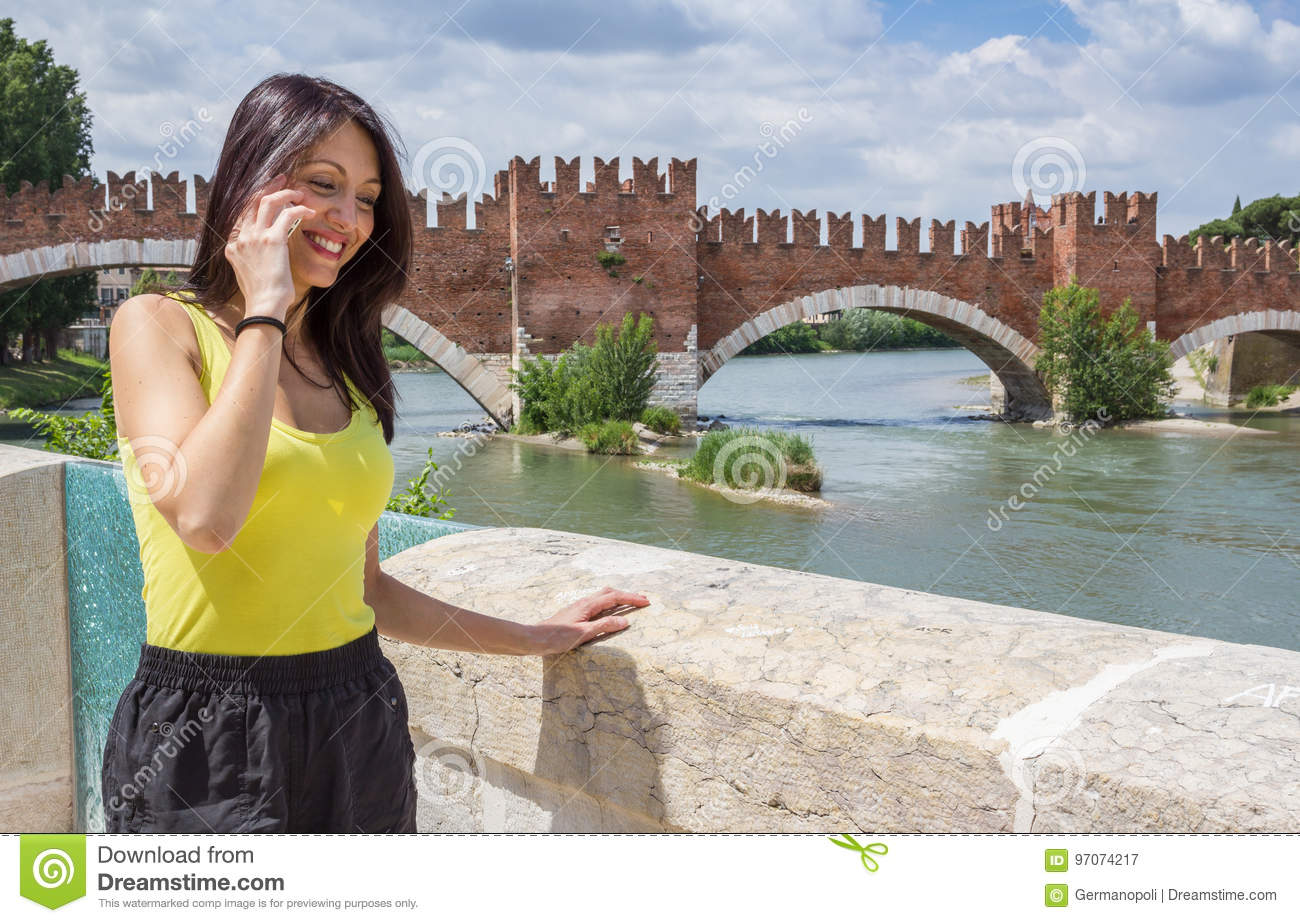phone: (249, 181, 305, 248)
talk: (221, 155, 382, 319)
